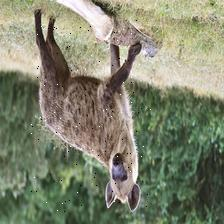hyena: (31, 19, 151, 213)
